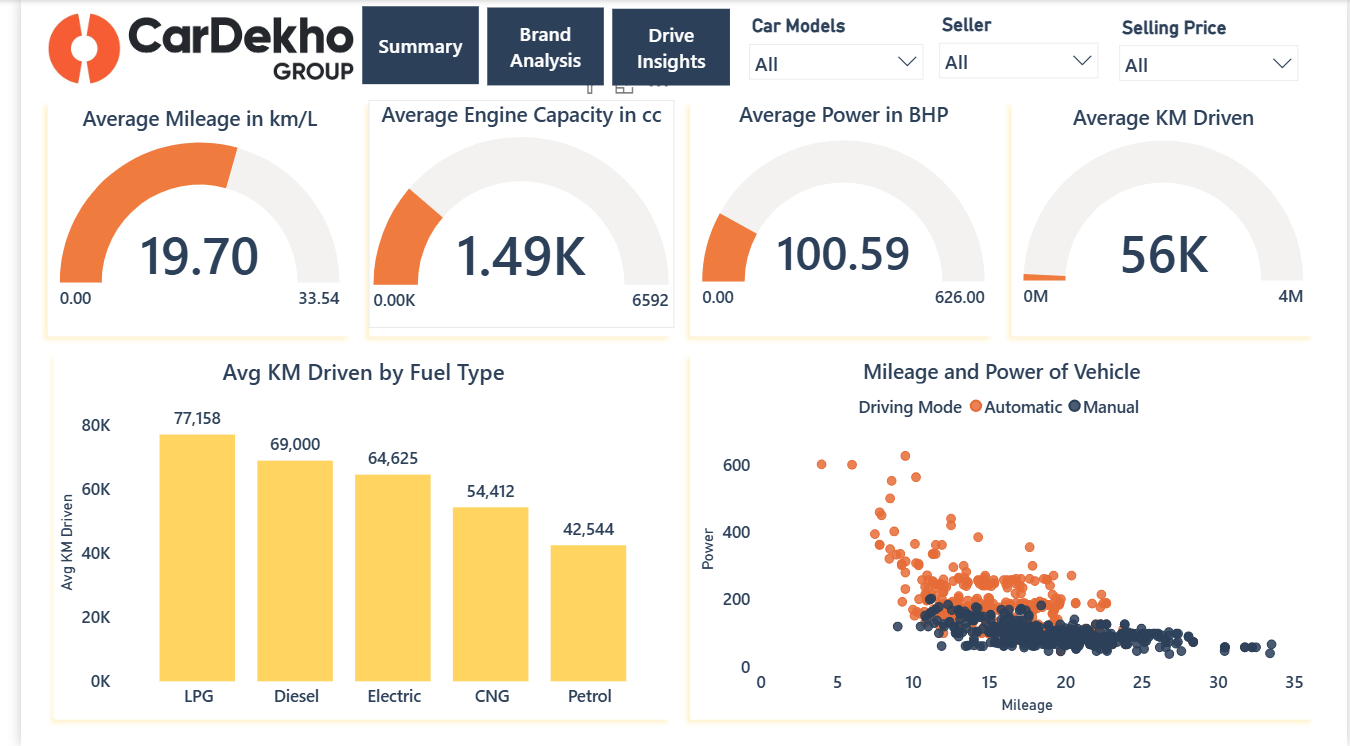

The page's visual inventory and layout, read from the dashboard file:
{"tool":"powerbi","page":{"name":"Drive Insights","canvas":[1280,720],"ordinal":2},"visuals":[{"type":"shape","box":[17,89.2,310.1,244.3],"z":0},{"type":"image","box":[18.1,0,311.3,94.1],"z":1000},{"type":"gauge","title":"Average Mileage in km/L","fields":{"Y":["cars.Avg Mileage num"],"MaxValue":["cars.Max Mileage num"]},"box":[32.1,100.7,279.9,215.4],"z":2000},{"type":"shape","box":[327.1,89.2,310.1,244.3],"z":3000},{"type":"shape","box":[637.3,89.2,310.1,244.3],"z":4000},{"type":"shape","box":[947.4,89.2,310.1,244.3],"z":5000},{"type":"gauge","title":"Average Engine Capacity in cc","fields":{"Y":["cars.Avg Eng Capacity"],"MaxValue":["cars.Max Eng Capacity"]},"box":[335.4,96.6,295,219.6],"z":6000},{"type":"gauge","title":"Average Power in BHP","fields":{"Y":["cars.Avg Power"],"MaxValue":["cars.Max Power"]},"box":[652.4,96.6,282.7,219.6],"z":7000},{"type":"gauge","title":"Average KM Driven","fields":{"Y":["cars.Avg KM Driven"],"MaxValue":["cars.Max KM Driven"]},"box":[962.5,99.3,279.9,214.1],"z":8000},{"type":"shape","box":[24.7,333.4,612,370.5],"z":8500},{"type":"shape","box":[636.7,333.4,620.2,370.5],"z":8750},{"type":"scatterChart","title":"Mileage and Power of Vehicle","fields":{"X":["cars.mileage"],"Y":["cars.max_power"],"Series":["cars.transmission_type"]},"box":[650.3,343.8,592.4,349.9],"z":9000},{"type":"clusteredColumnChart","title":"Avg KM Driven by Fuel Type","fields":{"Category":["cars.fuel_type"],"Y":["cars.Avg KM Driven"]},"box":[31.6,344.4,598.3,349.9],"z":11000},{"type":"actionButton","box":[329.3,5.5,112.5,75.5],"z":11001},{"type":"actionButton","box":[450.1,6.9,112.5,75.5],"z":11002},{"type":"actionButton","box":[570.8,8.2,113.9,74.1],"z":11003},{"type":"slicer","title":"Car Models","fields":{"Values":["cars.car_name"]},"box":[692.5,9.7,188.2,70],"z":11004},{"type":"slicer","title":"Fuel Type","fields":{"Values":["cars.seller_type"]},"box":[875.9,8.4,173.7,70],"z":11005},{"type":"slicer","title":"Fuel Type","fields":{"Values":["cars.selling_price"]},"box":[1049.6,10.9,193,70],"z":11006}]}

Visuals, with their boxes in screenshot pixels (x1, y1, x2, y2), scaled from the page's 1280x720 canvas onto the 1350x746 screenshot:
shape: 18 92 345 346
image: 19 0 347 97
"Average Mileage in km/L" gauge: 34 104 329 328
shape: 345 92 672 346
shape: 672 92 999 346
shape: 999 92 1326 346
"Average Engine Capacity in cc" gauge: 354 100 665 328
"Average Power in BHP" gauge: 688 100 986 328
"Average KM Driven" gauge: 1015 103 1310 325
shape: 26 345 672 729
shape: 672 345 1326 729
"Mileage and Power of Vehicle" scatterChart: 686 356 1311 719
"Avg KM Driven by Fuel Type" clusteredColumnChart: 33 357 664 719
actionButton: 347 6 466 84
actionButton: 475 7 593 85
actionButton: 602 8 722 85
"Car Models" slicer: 730 10 929 83
"Fuel Type" slicer: 924 9 1107 81
"Fuel Type" slicer: 1107 11 1311 84
